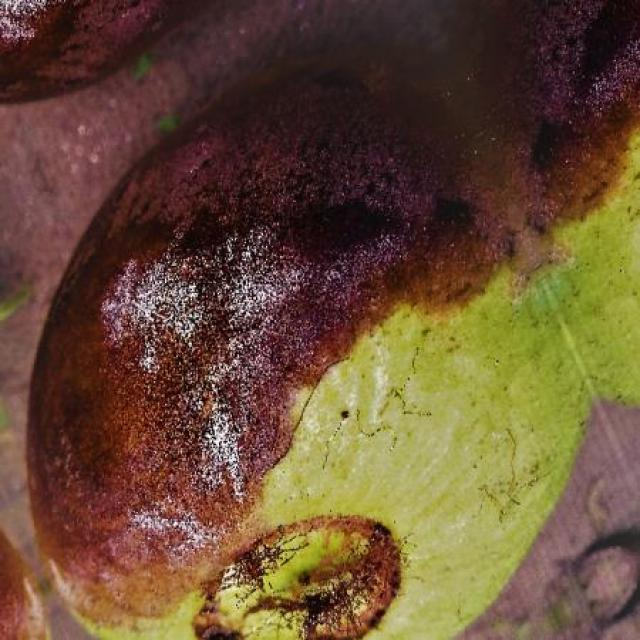Styler and Root: (29, 0, 640, 640), (0, 0, 204, 102)
